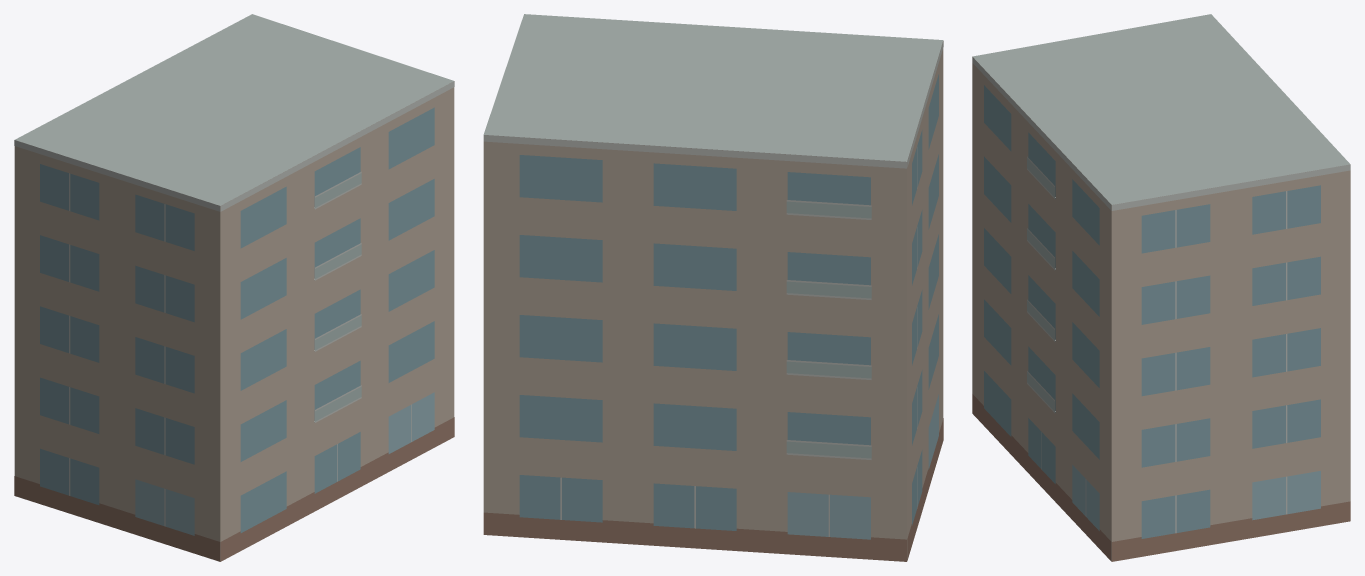
File: survey-upis-32890643.glb
3 views of the same model, side by side, from view 1: azimuth 30°, elevation 25°; view 2: azimuth 150°, elevation 25°; view 3: azimuth 270°, elevation 25° (orthographic). The views are drawn at different scales.
Parts seen in each view (by area): view 1: survey-upis-32890643.tmp; view 2: survey-upis-32890643.tmp; view 3: survey-upis-32890643.tmp.
Boxes of the visible parts, <box> form: survey-upis-32890643.tmp: <box>14,14,454,561</box>; survey-upis-32890643.tmp: <box>483,14,943,561</box>; survey-upis-32890643.tmp: <box>972,14,1350,561</box>.
Bounding box in the file's own units: 16.54 × 14.4 × 13.85.
